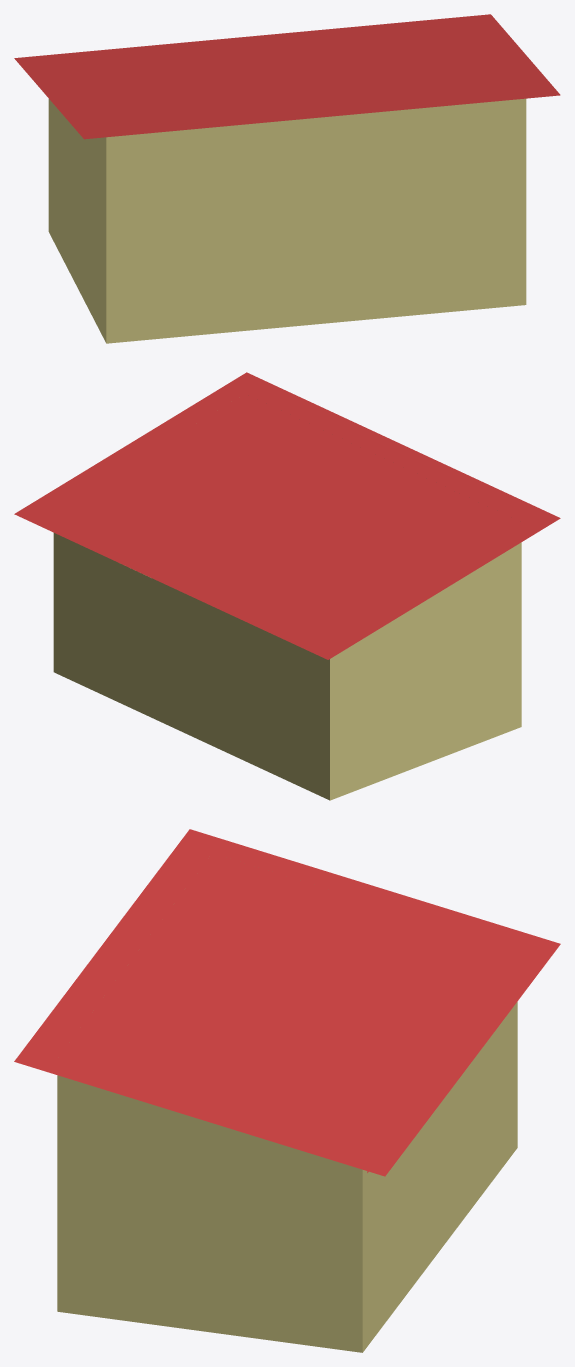
3 views of the same model, one above another, from view 1: azimuth 30°, elevation 25°; view 2: azimuth 150°, elevation 25°; view 3: azimuth 270°, elevation 25° (orthographic). The views are drawn at different scales.
Size of the model in its own units: 19.33 by 15.8 by 8.27.
